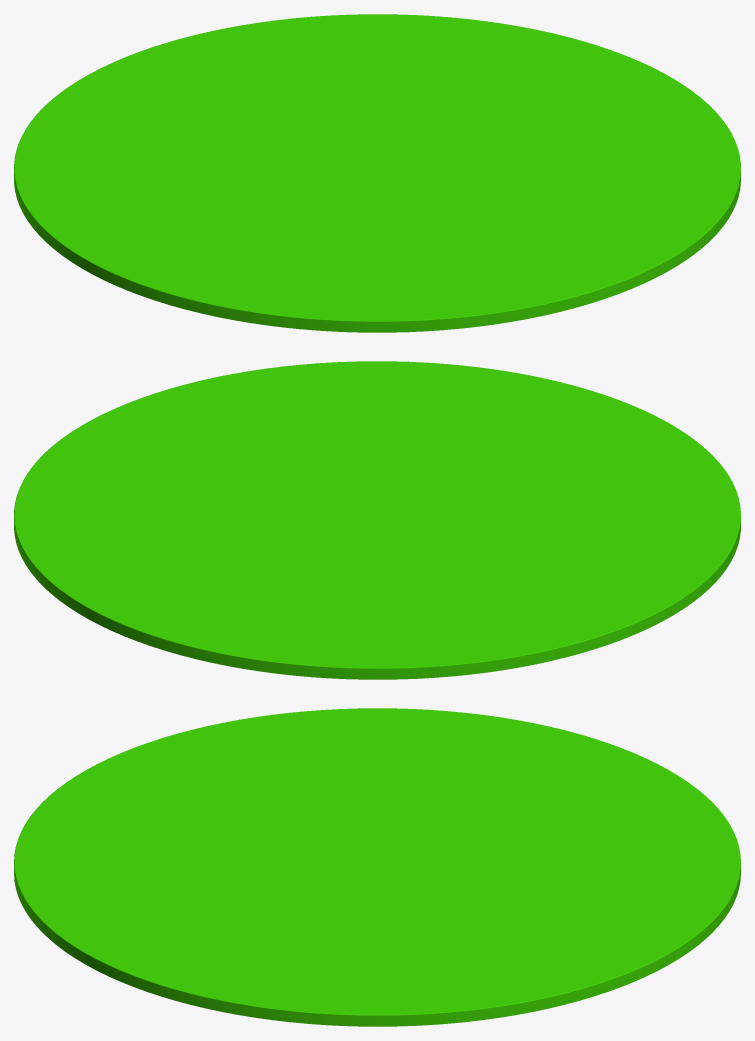
File: S_Turntable.fbx
3 renders of one model, top to bottom at view 1: azimuth 30°, elevation 25°; view 2: azimuth 150°, elevation 25°; view 3: azimuth 270°, elevation 25°, orthographic.
Visible parts, largest first — view 1: S_Turntable; view 2: S_Turntable; view 3: S_Turntable.
Part boxes in pixels (left/top/right/bottom): S_Turntable: left=14, top=14, right=740, bottom=332; S_Turntable: left=14, top=361, right=740, bottom=679; S_Turntable: left=14, top=708, right=740, bottom=1026.
Size of the model in its own units: 1151 by 20 by 1151.
